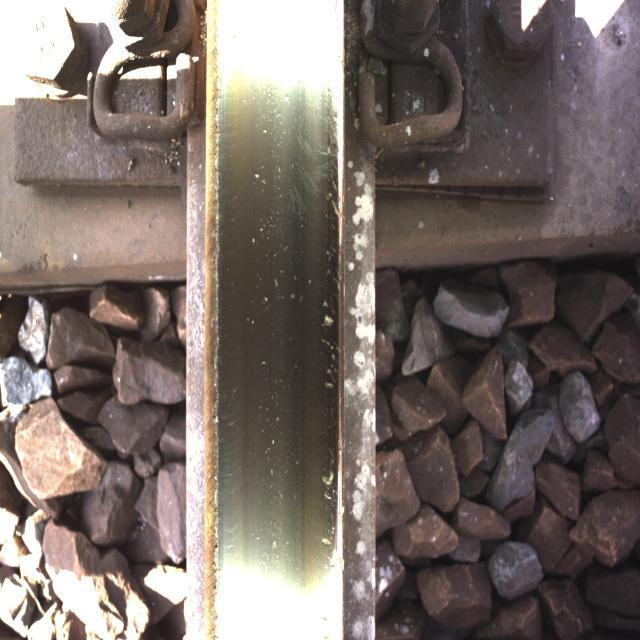normal: (229, 40, 336, 600)
